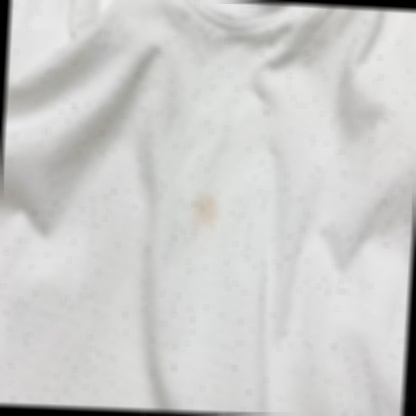coffee: (192, 193, 221, 227)
